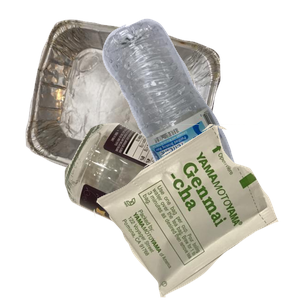glass: (62, 120, 300, 300)
metal: (23, 17, 236, 197)
plastic: (100, 16, 300, 196)
trash: (91, 124, 300, 300)
